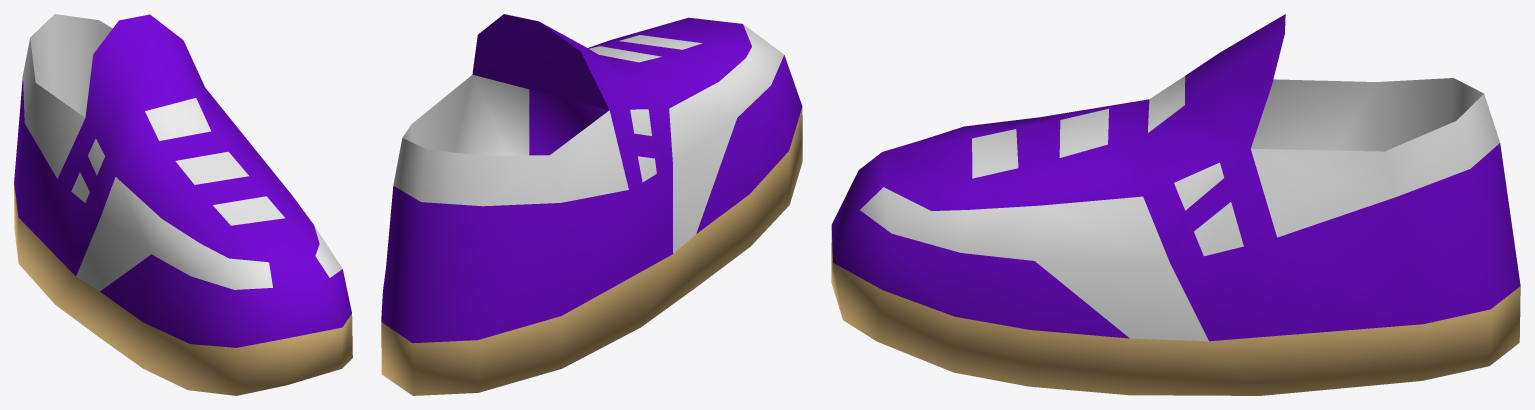
Rendered from ayakkabi1.fbx.
The picture shows the model from 3 angles, left to right: view 1: azimuth 30°, elevation 25°; view 2: azimuth 150°, elevation 25°; view 3: azimuth 270°, elevation 25°; orthographic projection. The views are drawn at different scales.
Visible parts, largest first — view 1: ayakkabi1; view 2: ayakkabi1; view 3: ayakkabi1.
Part boxes in pixels (box(x1,y1,x2,y2)): ayakkabi1: box(14, 14, 352, 395); ayakkabi1: box(381, 14, 802, 395); ayakkabi1: box(831, 14, 1520, 395).
Size of the model in its own units: 68.49 by 88.29 by 172.
